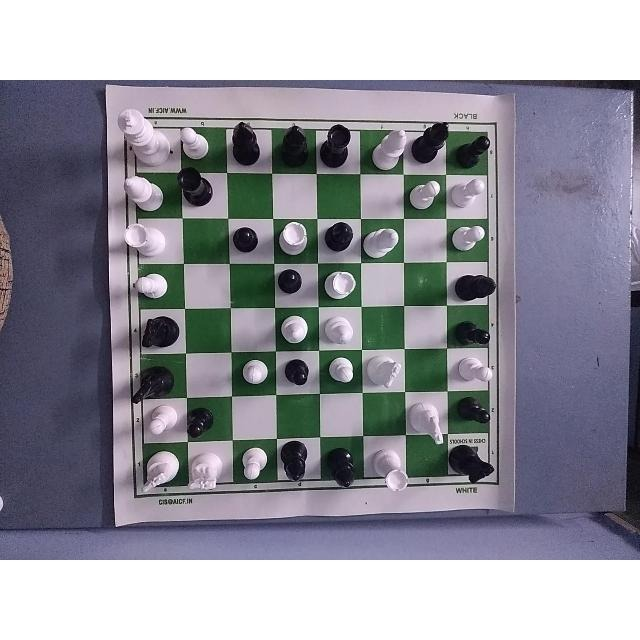black-bishop: (275, 115, 317, 171), (223, 119, 266, 173), (279, 440, 321, 494), (411, 119, 451, 173), (318, 217, 360, 262), (323, 440, 359, 492), (452, 270, 496, 299)
black-knight: (447, 437, 497, 487), (127, 361, 173, 409), (133, 310, 185, 352)
black-pawn: (452, 131, 495, 175), (269, 262, 312, 305), (182, 401, 214, 449), (449, 316, 495, 349), (229, 220, 273, 251), (281, 354, 314, 393), (456, 400, 496, 432)
black-rook: (173, 166, 220, 213), (315, 123, 354, 173)
white-bishop: (366, 122, 409, 175), (120, 169, 168, 213), (322, 312, 362, 352), (276, 311, 316, 351), (360, 223, 401, 258)
white-king: (113, 104, 179, 163)
white-knight: (183, 450, 234, 498), (138, 447, 182, 497), (403, 402, 448, 446), (366, 349, 404, 389)
white-pawn: (451, 354, 497, 388), (174, 122, 213, 161), (133, 269, 169, 311), (404, 180, 445, 214), (451, 219, 489, 255), (237, 444, 271, 484), (446, 177, 488, 209), (143, 404, 180, 440), (239, 362, 281, 393), (328, 356, 359, 392)
white-rook: (371, 438, 413, 492), (120, 219, 172, 260), (321, 265, 363, 309), (276, 217, 312, 263)
